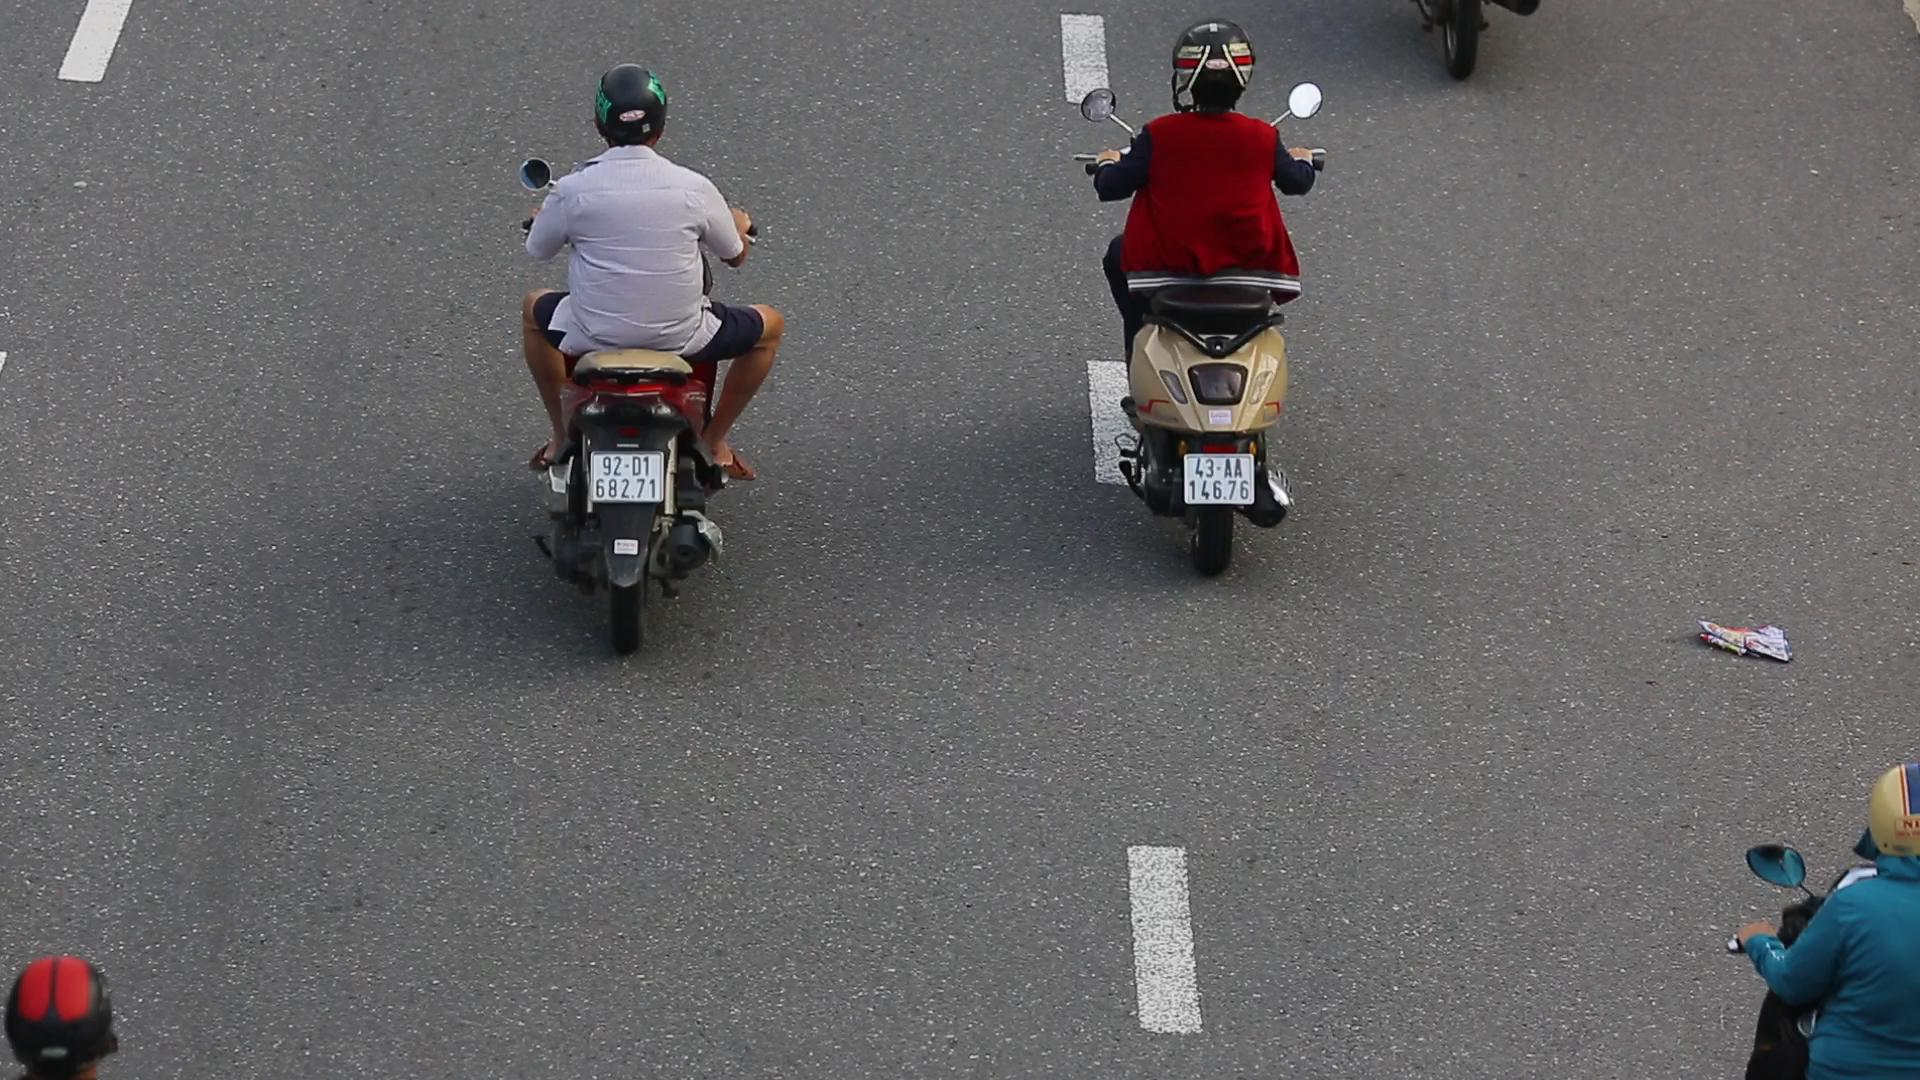motobike: (505, 55, 778, 669), (1080, 17, 1341, 595)
